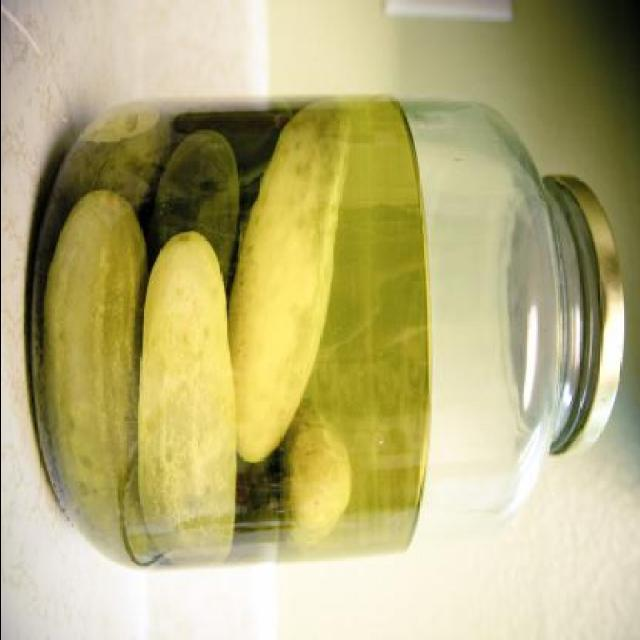Cucumber: (47, 91, 350, 568), (137, 228, 237, 568)
